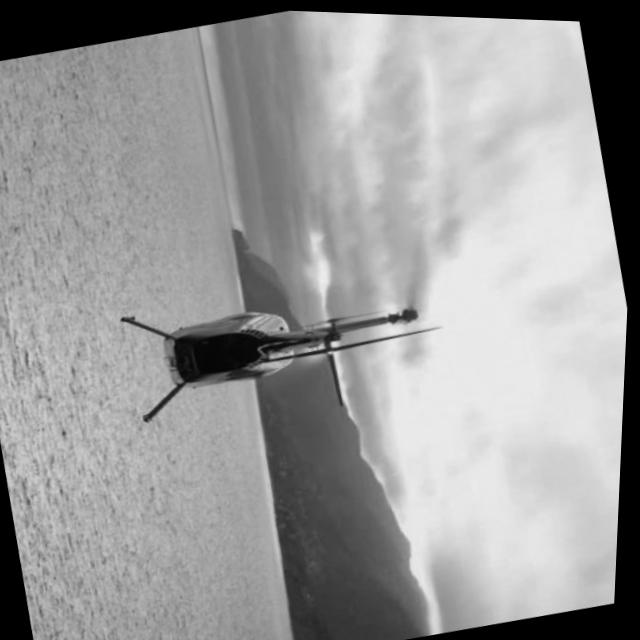helikopter: (98, 234, 430, 460)
